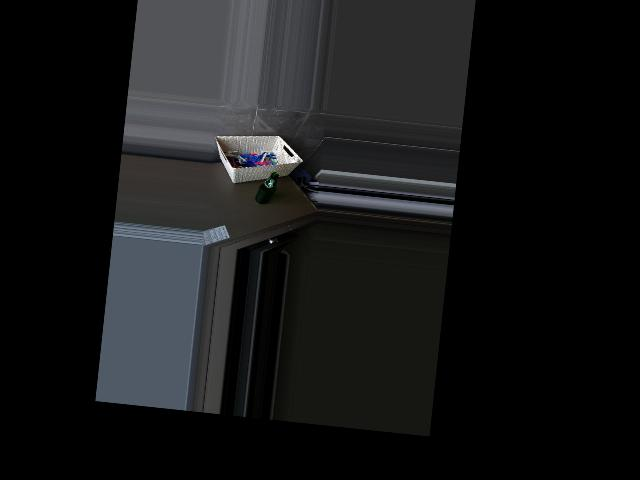beer: (254, 170, 279, 205)
